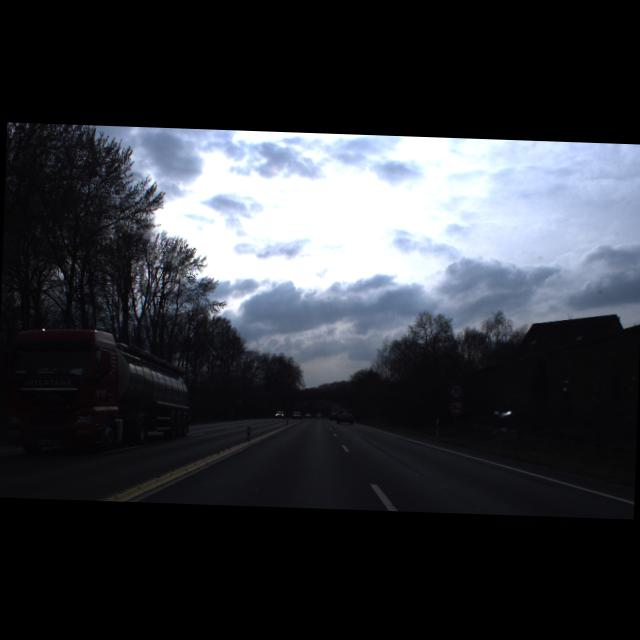prohibitory: (448, 398, 464, 416), (447, 382, 464, 398)
